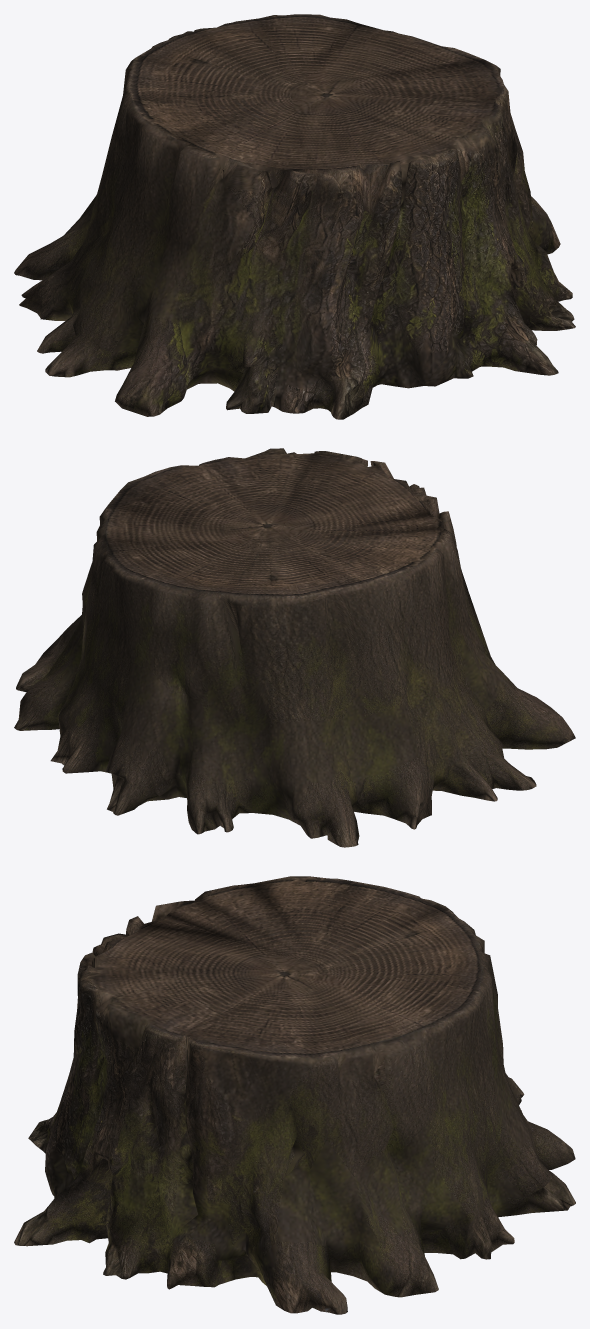
The model's file is stump_a.fbx.
3 views of the same model, one above another, from view 1: azimuth 30°, elevation 25°; view 2: azimuth 150°, elevation 25°; view 3: azimuth 270°, elevation 25° (orthographic). The views are drawn at different scales.
Visible parts, largest first — view 1: Mesh_0; view 2: Mesh_0; view 3: Mesh_0.
Boxes of the visible parts, x1,y1,x2,y2 form: Mesh_0: (14, 14, 575, 419); Mesh_0: (14, 448, 575, 847); Mesh_0: (14, 876, 575, 1314).
Size of the model in its own units: 95.02 by 38.38 by 85.06.
1 material, 1 textured.
